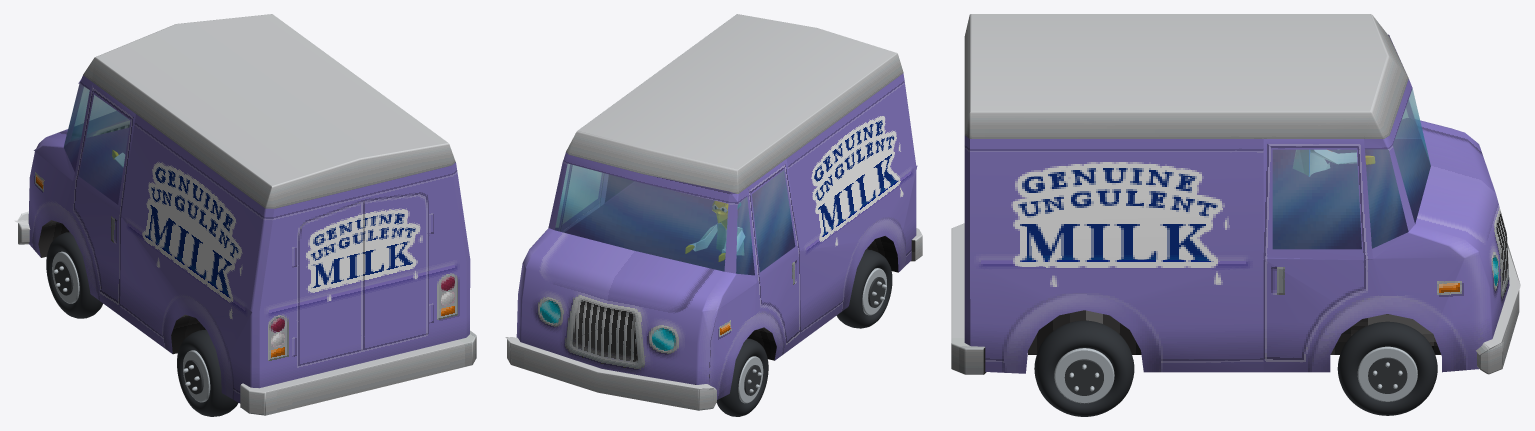
The model's file is car-cmilk.glb.
The picture shows the model from 3 angles, left to right: view 1: azimuth 30°, elevation 25°; view 2: azimuth 150°, elevation 25°; view 3: azimuth 270°, elevation 25°; orthographic projection. The views are drawn at different scales.
Visible parts, largest first — view 1: cMilkShape.004, cMilkShape.001, cMilkShape.002, cMilkShape.006, cMilkShape.005, Rounded tire.006, Rounded tire.005, cMilkShape, Alloy rim.005, Alloy rim.006, Rim recess.012, Rim recess.010; view 2: cMilkShape.004, cMilkShape.002, cMilkShape.006, cMilkShape.005, Rounded tire.006, Rounded tire.005, cMilkShape, traffPassCShape, Alloy rim.005, Alloy rim.006; view 3: cMilkShape.004, cMilkShape.003, cMilkShape.006, cMilkShape.005, Rounded tire.007, Rounded tire.004, cMilkShape.002, cMilkShape, Alloy rim.007, Alloy rim.004, traffPassCShape, Rim recess.015 (+1 smaller).
Boxes of the visible parts, left/top/right/bottom form: cMilkShape.004: left=14, top=14, right=476, bottom=415; cMilkShape.001: left=259, top=165, right=466, bottom=387; cMilkShape.002: left=64, top=75, right=470, bottom=403; cMilkShape.006: left=64, top=84, right=130, bottom=204; cMilkShape.005: left=64, top=128, right=128, bottom=204; Rounded tire.006: left=177, top=329, right=238, bottom=416; Rounded tire.005: left=46, top=232, right=103, bottom=318; cMilkShape: left=38, top=220, right=240, bottom=407; Alloy rim.005: left=52, top=251, right=79, bottom=303; Alloy rim.006: left=183, top=350, right=210, bottom=402; Rim recess.012: left=184, top=360, right=203, bottom=394; Rim recess.010: left=54, top=261, right=73, bottom=295; cMilkShape.004: left=505, top=14, right=922, bottom=410; cMilkShape.002: left=548, top=73, right=917, bottom=341; cMilkShape.006: left=555, top=163, right=795, bottom=275; cMilkShape.005: left=565, top=170, right=794, bottom=274; Rounded tire.006: left=836, top=249, right=892, bottom=328; Rounded tire.005: left=716, top=338, right=768, bottom=416; cMilkShape: left=709, top=236, right=915, bottom=377; traffPassCShape: left=685, top=201, right=744, bottom=261; Alloy rim.005: left=738, top=356, right=763, bottom=403; Alloy rim.006: left=862, top=268, right=886, bottom=315; cMilkShape.004: left=951, top=14, right=1520, bottom=374; cMilkShape.003: left=970, top=139, right=1263, bottom=373; cMilkShape.006: left=1272, top=88, right=1430, bottom=249; cMilkShape.005: left=1273, top=139, right=1430, bottom=248; Rounded tire.007: left=1034, top=320, right=1134, bottom=416; Rounded tire.004: left=1337, top=321, right=1437, bottom=415; cMilkShape.002: left=964, top=34, right=1414, bottom=345; cMilkShape: left=983, top=310, right=1440, bottom=374; Alloy rim.007: left=1054, top=348, right=1114, bottom=403; Alloy rim.004: left=1357, top=346, right=1417, bottom=401; traffPassCShape: left=1293, top=150, right=1374, bottom=176; Rim recess.015: left=1064, top=359, right=1103, bottom=395.
Bounding box in the file's own units: 2.65 × 2.78 × 4.74.
Materials: 10 (7 with a texture image).
